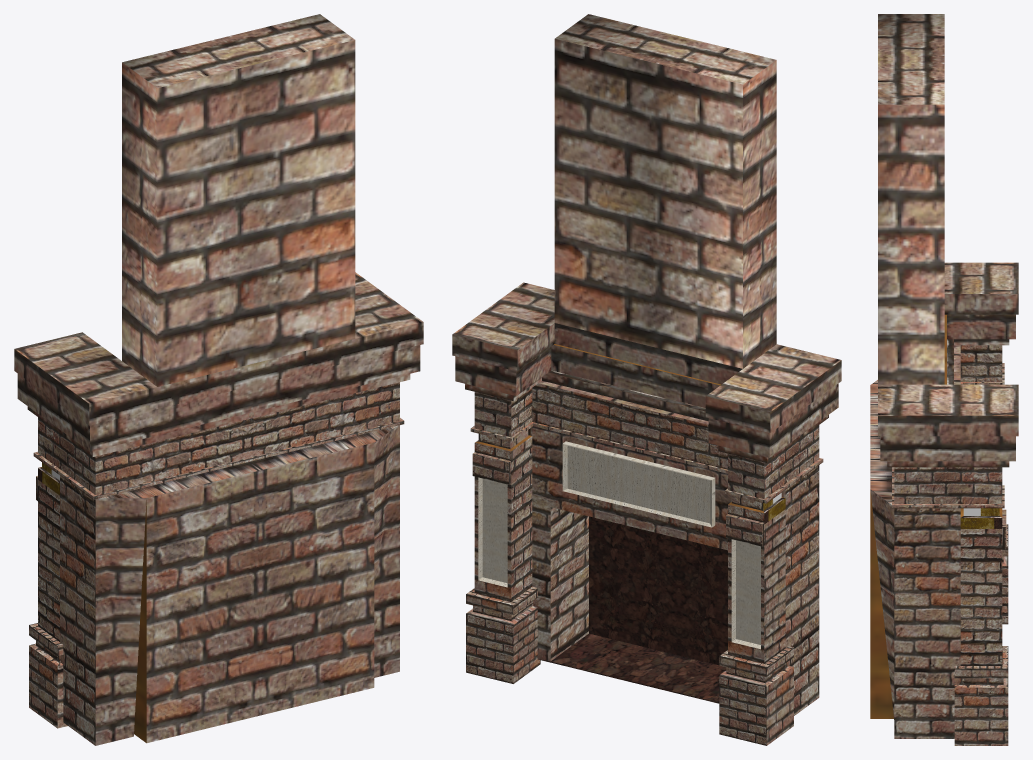
The model's file is LareiraSalaCima.fbx.
The picture shows the model from 3 angles, left to right: view 1: azimuth 30°, elevation 25°; view 2: azimuth 150°, elevation 25°; view 3: azimuth 270°, elevation 25°; orthographic projection. The views are drawn at different scales.
Parts seen in each view (by area): view 1: Lareira; view 2: Lareira; view 3: Lareira.
Part boxes in pixels (x1,y1,x2,y2): Lareira: [14, 14, 423, 745]; Lareira: [452, 14, 841, 745]; Lareira: [870, 14, 1018, 745].
Bounding box in the file's own units: 3.39 × 1.38 × 6.34.
